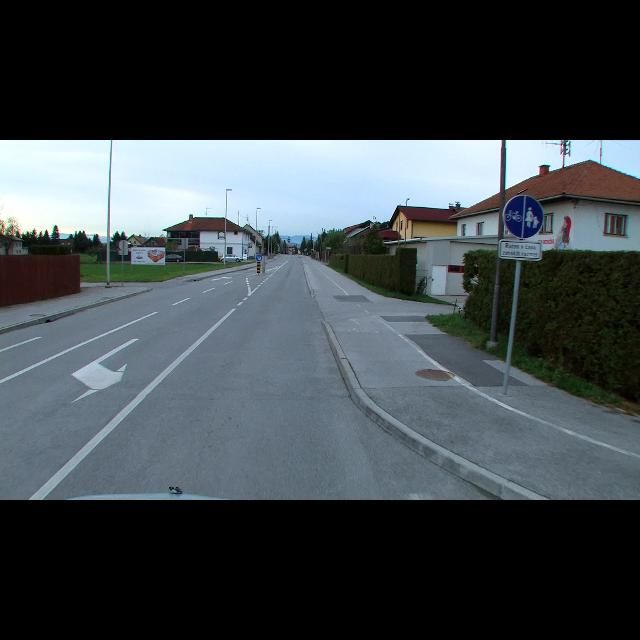Rectangle: (500, 240, 542, 260)
Round: (504, 194, 544, 240), (255, 253, 263, 263)
